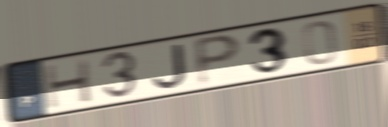0: (300, 19, 339, 67)
3: (246, 25, 293, 77), (97, 49, 140, 103)
H: (41, 56, 95, 112)
J: (151, 41, 190, 90)
P: (191, 32, 244, 89)
